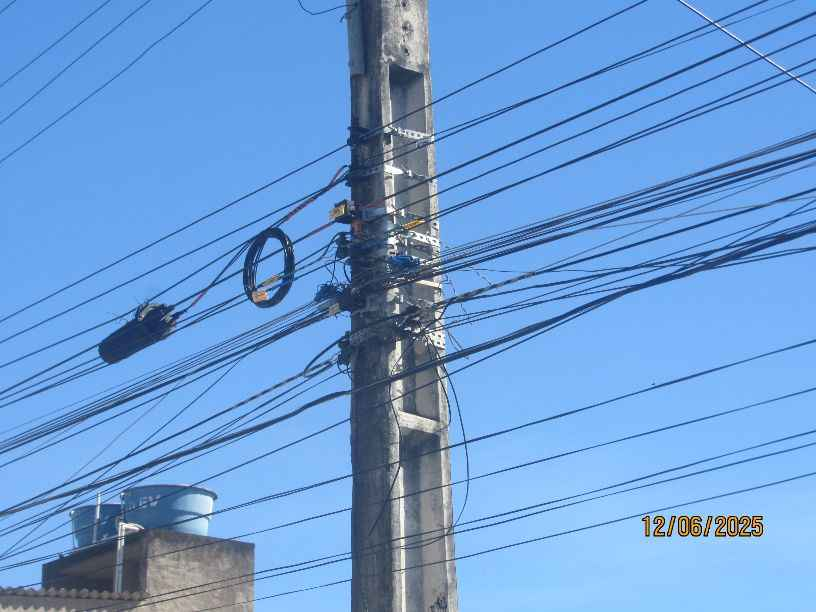caixa_emenda_fibra: (93, 287, 192, 370), (234, 220, 296, 306)
drop: (330, 329, 352, 372), (387, 250, 421, 272), (313, 276, 337, 299), (363, 237, 393, 249)
fibra_optica: (249, 288, 273, 306), (405, 217, 429, 230), (328, 205, 350, 219), (327, 299, 342, 315)
